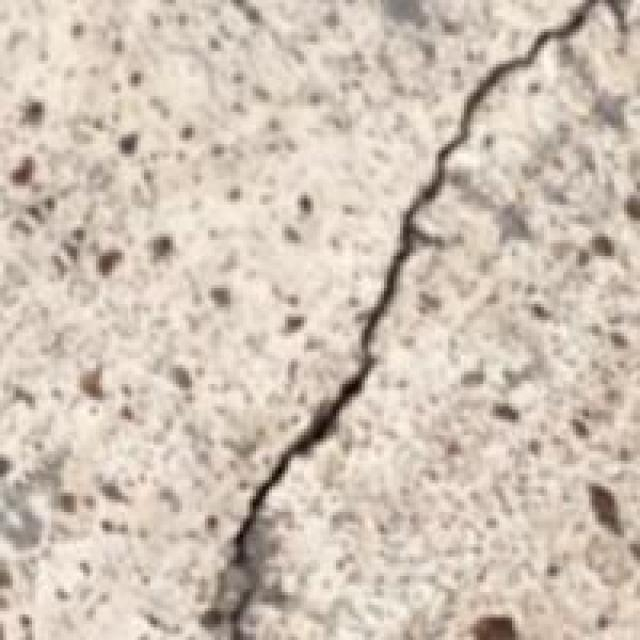crack: (221, 0, 637, 637)
